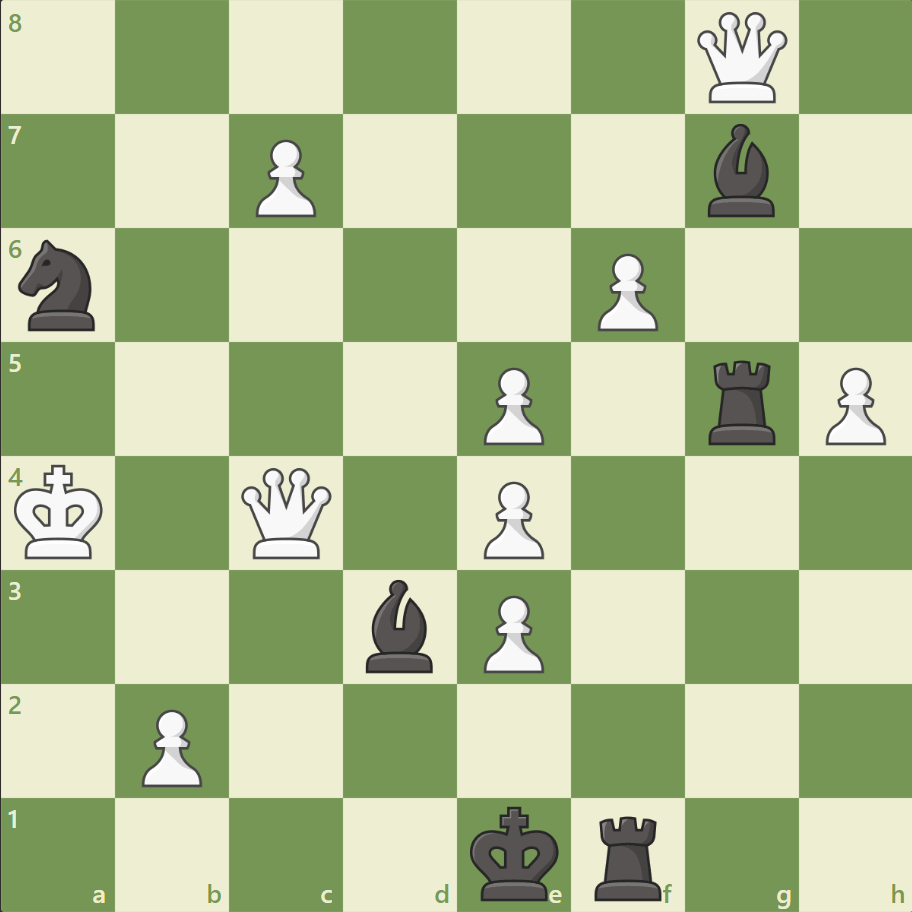K: (11, 458, 111, 566)
P: (247, 132, 322, 223), (474, 359, 549, 450), (474, 473, 549, 564), (474, 586, 549, 677), (133, 700, 208, 791), (588, 246, 662, 337), (815, 359, 889, 450)
Q: (691, 9, 790, 108), (237, 463, 336, 562)
b: (698, 120, 782, 222), (358, 574, 442, 676)
k: (465, 798, 565, 906)
n: (11, 234, 108, 337)
r: (587, 806, 670, 904), (700, 352, 783, 449)
